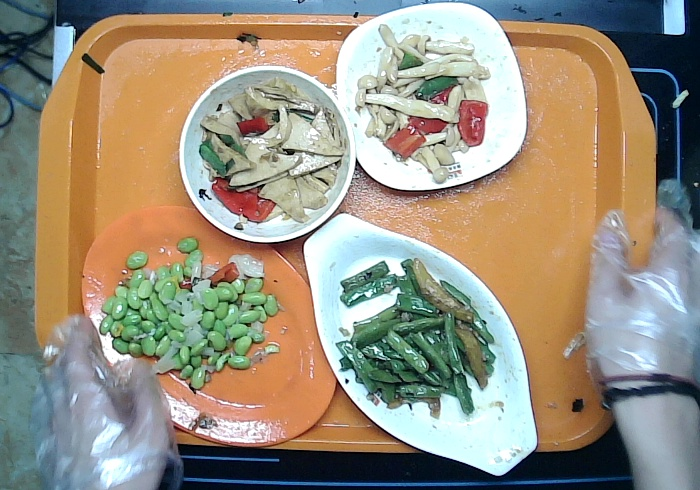NLDX-Bai_Se_Xiao_Fang_Die: (335, 3, 527, 191)
NLDX-Fan_Wan: (178, 66, 357, 245)
NLDX-Ju_Se_Pan: (81, 206, 336, 446)
NLDX-Yu_Pan: (302, 212, 539, 476)
